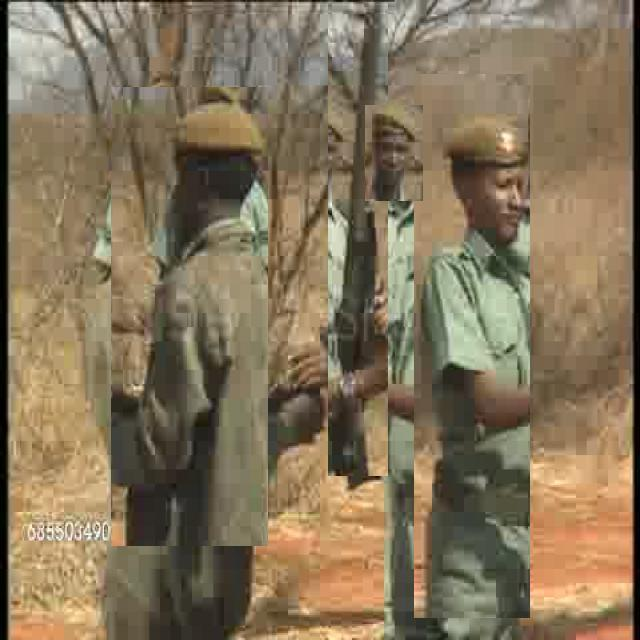poacher: (111, 87, 268, 546), (414, 74, 530, 618), (365, 105, 423, 201)
weapon: (328, 2, 388, 476)
